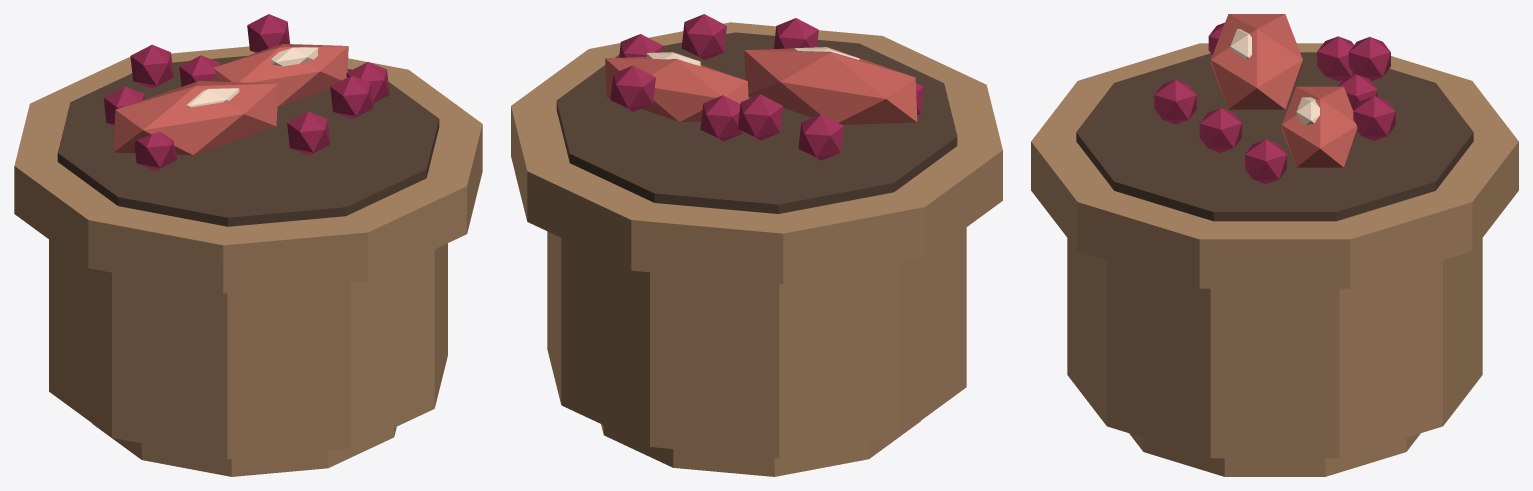
The model's file is resource_food_pot.glb.
The picture shows the model from 3 angles, left to right: view 1: azimuth 30°, elevation 25°; view 2: azimuth 150°, elevation 25°; view 3: azimuth 270°, elevation 25°; orthographic projection. The views are drawn at different scales.
Parts seen in each view (by area): view 1: resource_food_pot_pot_body, resource_food_pot_pot_rim, resource_food_pot_dark_opening, resource_food_pot_meat_1, resource_food_pot_meat_2, resource_food_pot_pot_foot, resource_food_pot_berry_2, resource_food_pot_berry_4, resource_food_pot_berry_6, resource_food_pot_berry_7, resource_food_pot_berry_8, resource_food_pot_berry_5 (+4 smaller); view 2: resource_food_pot_pot_body, resource_food_pot_pot_rim, resource_food_pot_dark_opening, resource_food_pot_meat_1, resource_food_pot_meat_2, resource_food_pot_pot_foot, resource_food_pot_berry_8, resource_food_pot_berry_1, resource_food_pot_berry_4, resource_food_pot_berry_2, resource_food_pot_berry_3, resource_food_pot_berry_6 (+1 smaller); view 3: resource_food_pot_pot_body, resource_food_pot_pot_rim, resource_food_pot_dark_opening, resource_food_pot_meat_1, resource_food_pot_meat_2, resource_food_pot_pot_foot, resource_food_pot_berry_6, resource_food_pot_berry_4, resource_food_pot_berry_5, resource_food_pot_berry_8, resource_food_pot_berry_2, resource_food_pot_berry_1 (+2 smaller).
Boxes of the visible parts, bbox=[...] form: resource_food_pot_pot_body: bbox=[49, 239, 447, 459]; resource_food_pot_pot_rim: bbox=[14, 46, 482, 293]; resource_food_pot_dark_opening: bbox=[57, 55, 439, 226]; resource_food_pot_meat_1: bbox=[113, 81, 278, 155]; resource_food_pot_meat_2: bbox=[212, 44, 348, 106]; resource_food_pot_pot_foot: bbox=[92, 423, 396, 476]; resource_food_pot_berry_2: bbox=[130, 44, 173, 88]; resource_food_pot_berry_4: bbox=[330, 75, 373, 119]; resource_food_pot_berry_6: bbox=[287, 111, 330, 155]; resource_food_pot_berry_7: bbox=[134, 131, 176, 170]; resource_food_pot_berry_8: bbox=[247, 14, 289, 52]; resource_food_pot_berry_5: bbox=[346, 62, 389, 102]; resource_food_pot_pot_body: bbox=[547, 227, 966, 458]; resource_food_pot_pot_rim: bbox=[511, 22, 1002, 284]; resource_food_pot_dark_opening: bbox=[556, 32, 957, 213]; resource_food_pot_meat_1: bbox=[744, 47, 917, 124]; resource_food_pot_meat_2: bbox=[605, 57, 748, 122]; resource_food_pot_pot_foot: bbox=[601, 421, 920, 476]; resource_food_pot_berry_8: bbox=[610, 65, 655, 111]; resource_food_pot_berry_1: bbox=[798, 114, 843, 160]; resource_food_pot_berry_4: bbox=[681, 14, 726, 60]; resource_food_pot_berry_2: bbox=[737, 94, 783, 140]; resource_food_pot_berry_3: bbox=[700, 95, 742, 141]; resource_food_pot_berry_6: bbox=[773, 18, 818, 48]; resource_food_pot_pot_body: bbox=[1067, 238, 1482, 458]; resource_food_pot_pot_rim: bbox=[1031, 43, 1518, 288]; resource_food_pot_dark_opening: bbox=[1076, 52, 1473, 221]; resource_food_pot_meat_1: bbox=[1210, 14, 1302, 109]; resource_food_pot_meat_2: bbox=[1281, 86, 1357, 167]; resource_food_pot_pot_foot: bbox=[1129, 433, 1420, 476]; resource_food_pot_berry_6: bbox=[1154, 79, 1196, 124]; resource_food_pot_berry_4: bbox=[1199, 108, 1241, 152]; resource_food_pot_berry_5: bbox=[1245, 139, 1286, 184]; resource_food_pot_berry_8: bbox=[1353, 96, 1395, 140]; resource_food_pot_berry_2: bbox=[1348, 37, 1390, 81]; resource_food_pot_berry_1: bbox=[1317, 36, 1353, 81].
Bounding box in the file's own units: 1.03 × 0.86 × 1.08.
